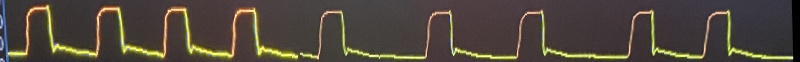normal_pressure: (0, 0, 792, 62)
